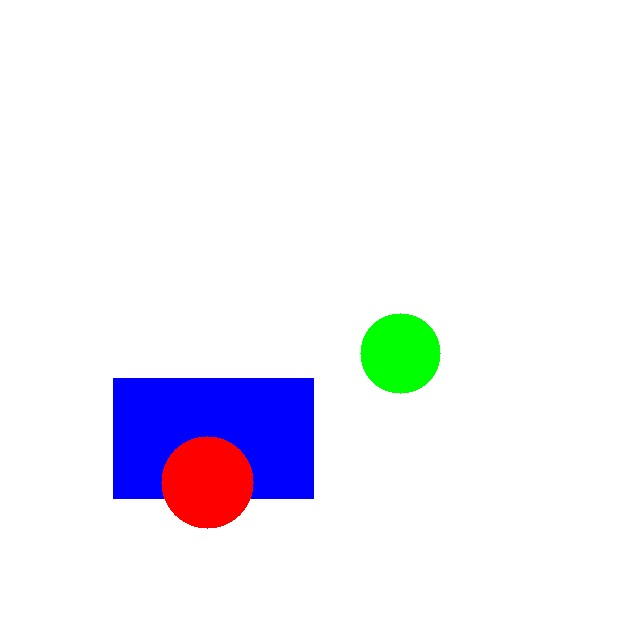cartao: (113, 378, 313, 498)
rosca_externa: (360, 313, 440, 393)
rosca_interna: (161, 436, 253, 528)
